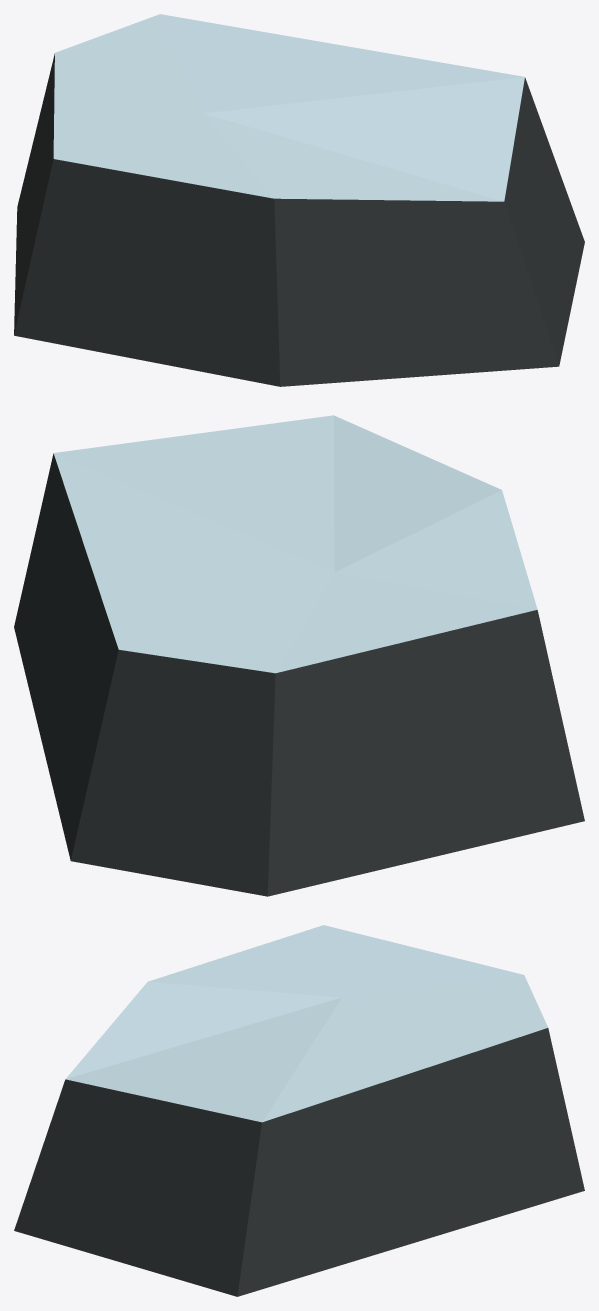
The model's file is SM_Env_Generic_Rock_01_Snow.fbx.
3 renders of one model, top to bottom at view 1: azimuth 30°, elevation 25°; view 2: azimuth 150°, elevation 25°; view 3: azimuth 270°, elevation 25°, orthographic. The views are drawn at different scales.
Visible parts, largest first — view 1: SM_Env_Generic_Rock_01_Snow; view 2: SM_Env_Generic_Rock_01_Snow; view 3: SM_Env_Generic_Rock_01_Snow.
Part boxes in pixels (box(x1,y1,x2,y2)): SM_Env_Generic_Rock_01_Snow: box(14, 14, 584, 386); SM_Env_Generic_Rock_01_Snow: box(14, 415, 584, 896); SM_Env_Generic_Rock_01_Snow: box(14, 925, 584, 1296).
Size of the model in its own units: 49.89 by 15.2 by 51.07.
1 material, 1 textured.
